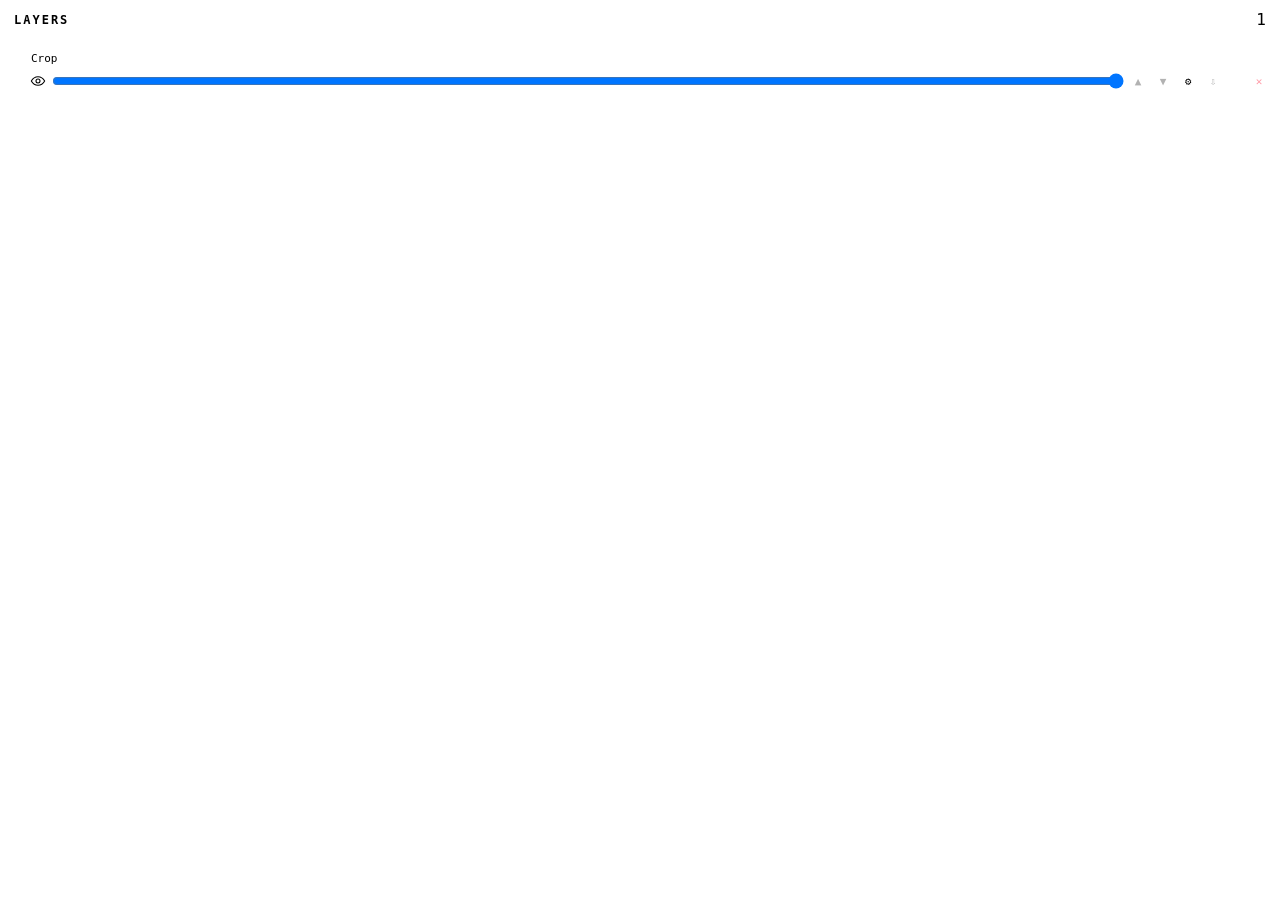
Scenario: the gear of a layer merged and cut to its AOI › a crop of several passes › is not turned away: a small choice of the pass takes the place of "Run as"
The image size is (1280, 900).
Click the button "⚙".
click(1188, 81)  # box x1=1177 y1=72 x2=1199 y2=90
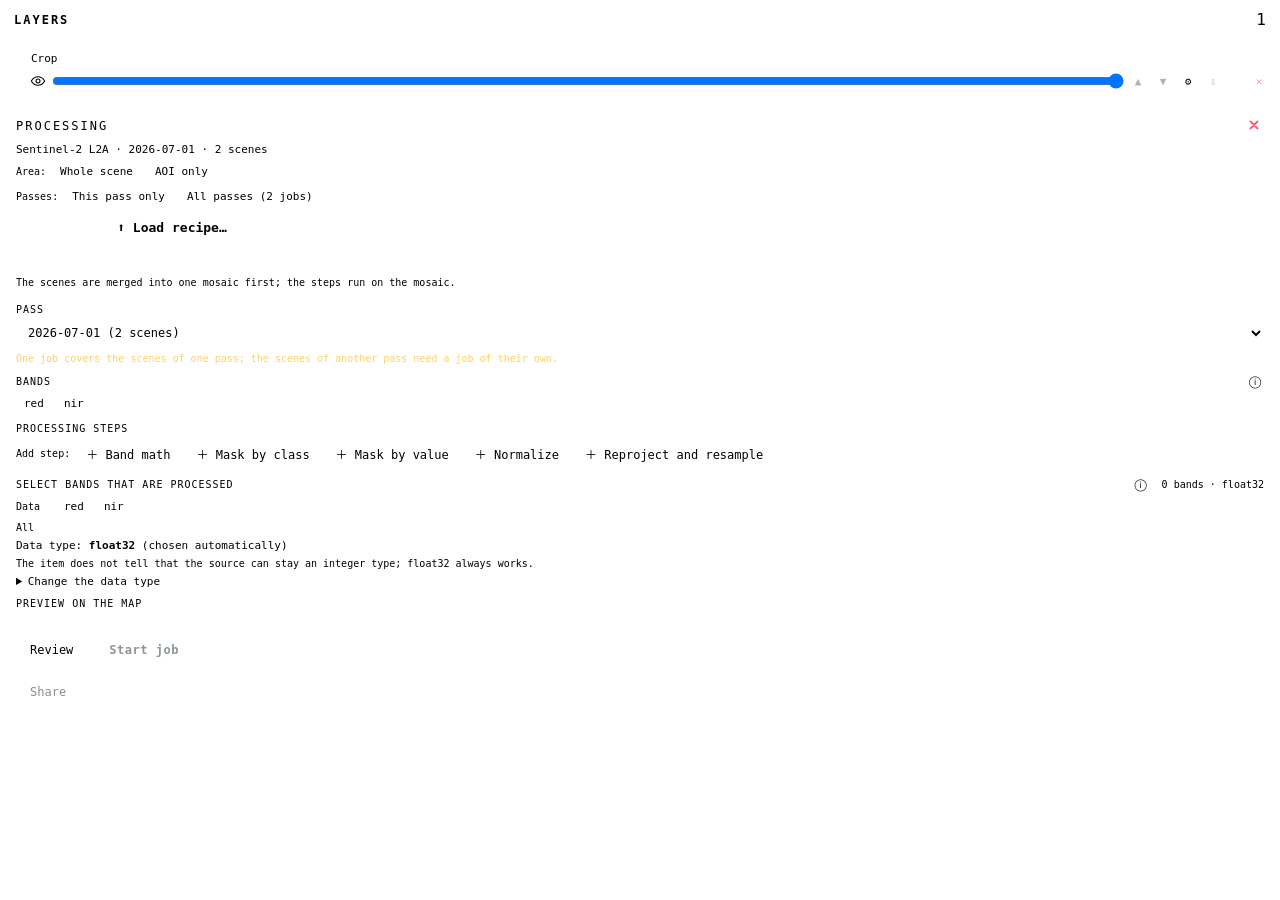
Now the button "This pass only" is shown, box x1=64 y1=187 x2=173 y2=206
